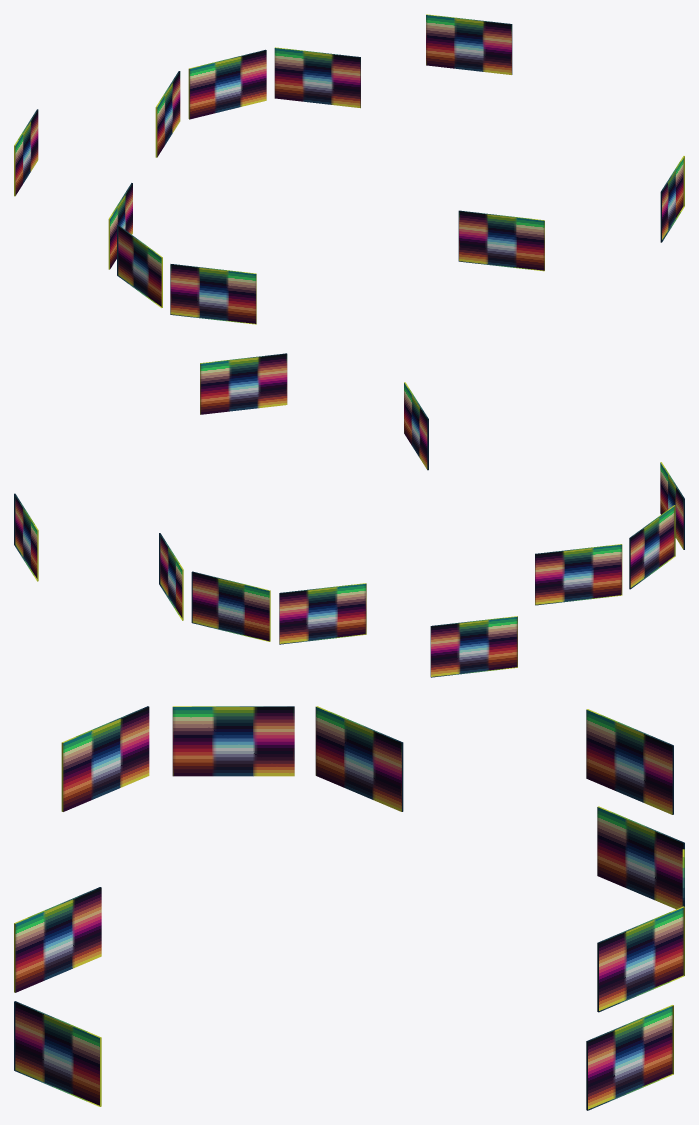
Rendered from TelasMonitores.fbx.
3 renders of one model, top to bottom at view 1: azimuth 30°, elevation 25°; view 2: azimuth 150°, elevation 25°; view 3: azimuth 270°, elevation 25°, orthographic. The views are drawn at different scales.
Visible parts, largest first — view 1: Eletronicos.001; view 2: Eletronicos.001; view 3: Eletronicos.001.
Part boxes in pixels (bbox=[...]): Eletronicos.001: bbox=[14, 14, 684, 324]; Eletronicos.001: bbox=[14, 353, 684, 677]; Eletronicos.001: bbox=[14, 706, 684, 1110].
Bounding box in the file's own units: 7.67 × 0.736 × 6.48.
